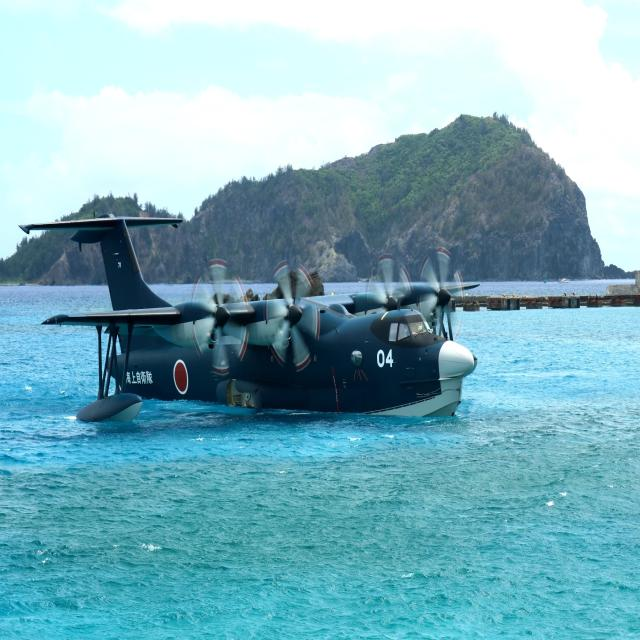MIL_Plane: (16, 210, 480, 424)
